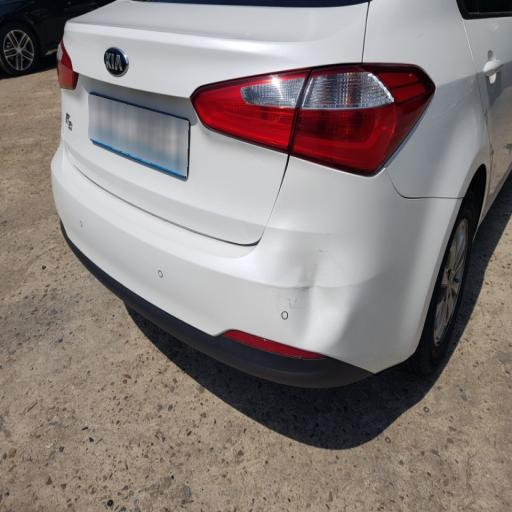dent: (259, 205, 382, 370)
